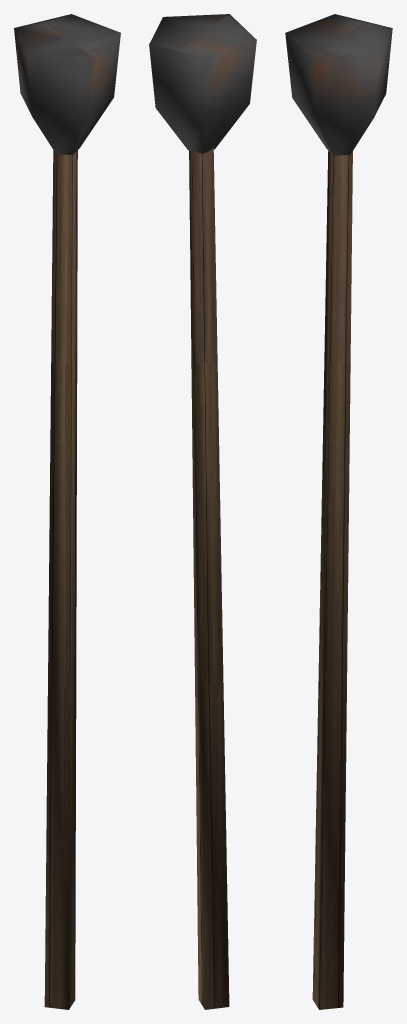
Rendered from Torch_Pole_1_LOD1.gltf.
The picture shows the model from 3 angles, left to right: view 1: azimuth 30°, elevation 25°; view 2: azimuth 150°, elevation 25°; view 3: azimuth 330°, elevation 25°; orthographic projection.
Parts seen in each view (by area): view 1: Torch_Pole_1_LOD1; view 2: Torch_Pole_1_LOD1; view 3: Torch_Pole_1_LOD1.
Boxes of the visible parts, <box> form: Torch_Pole_1_LOD1: <box>14,14,120,1009</box>; Torch_Pole_1_LOD1: <box>149,14,256,1009</box>; Torch_Pole_1_LOD1: <box>285,14,392,1009</box>.
Size of the model in its own units: 0.3043 by 3 by 0.2894.
3 materials, 3 textured.
